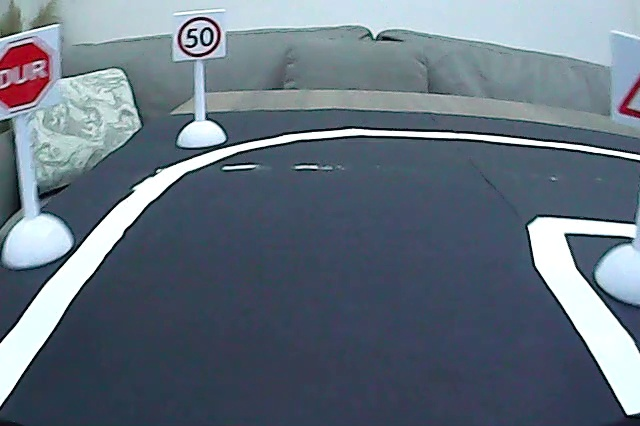speed limit 50: (176, 14, 224, 60)
stop sign: (1, 34, 62, 118)
